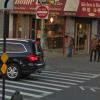Crosswalk: (9, 71, 90, 98)
